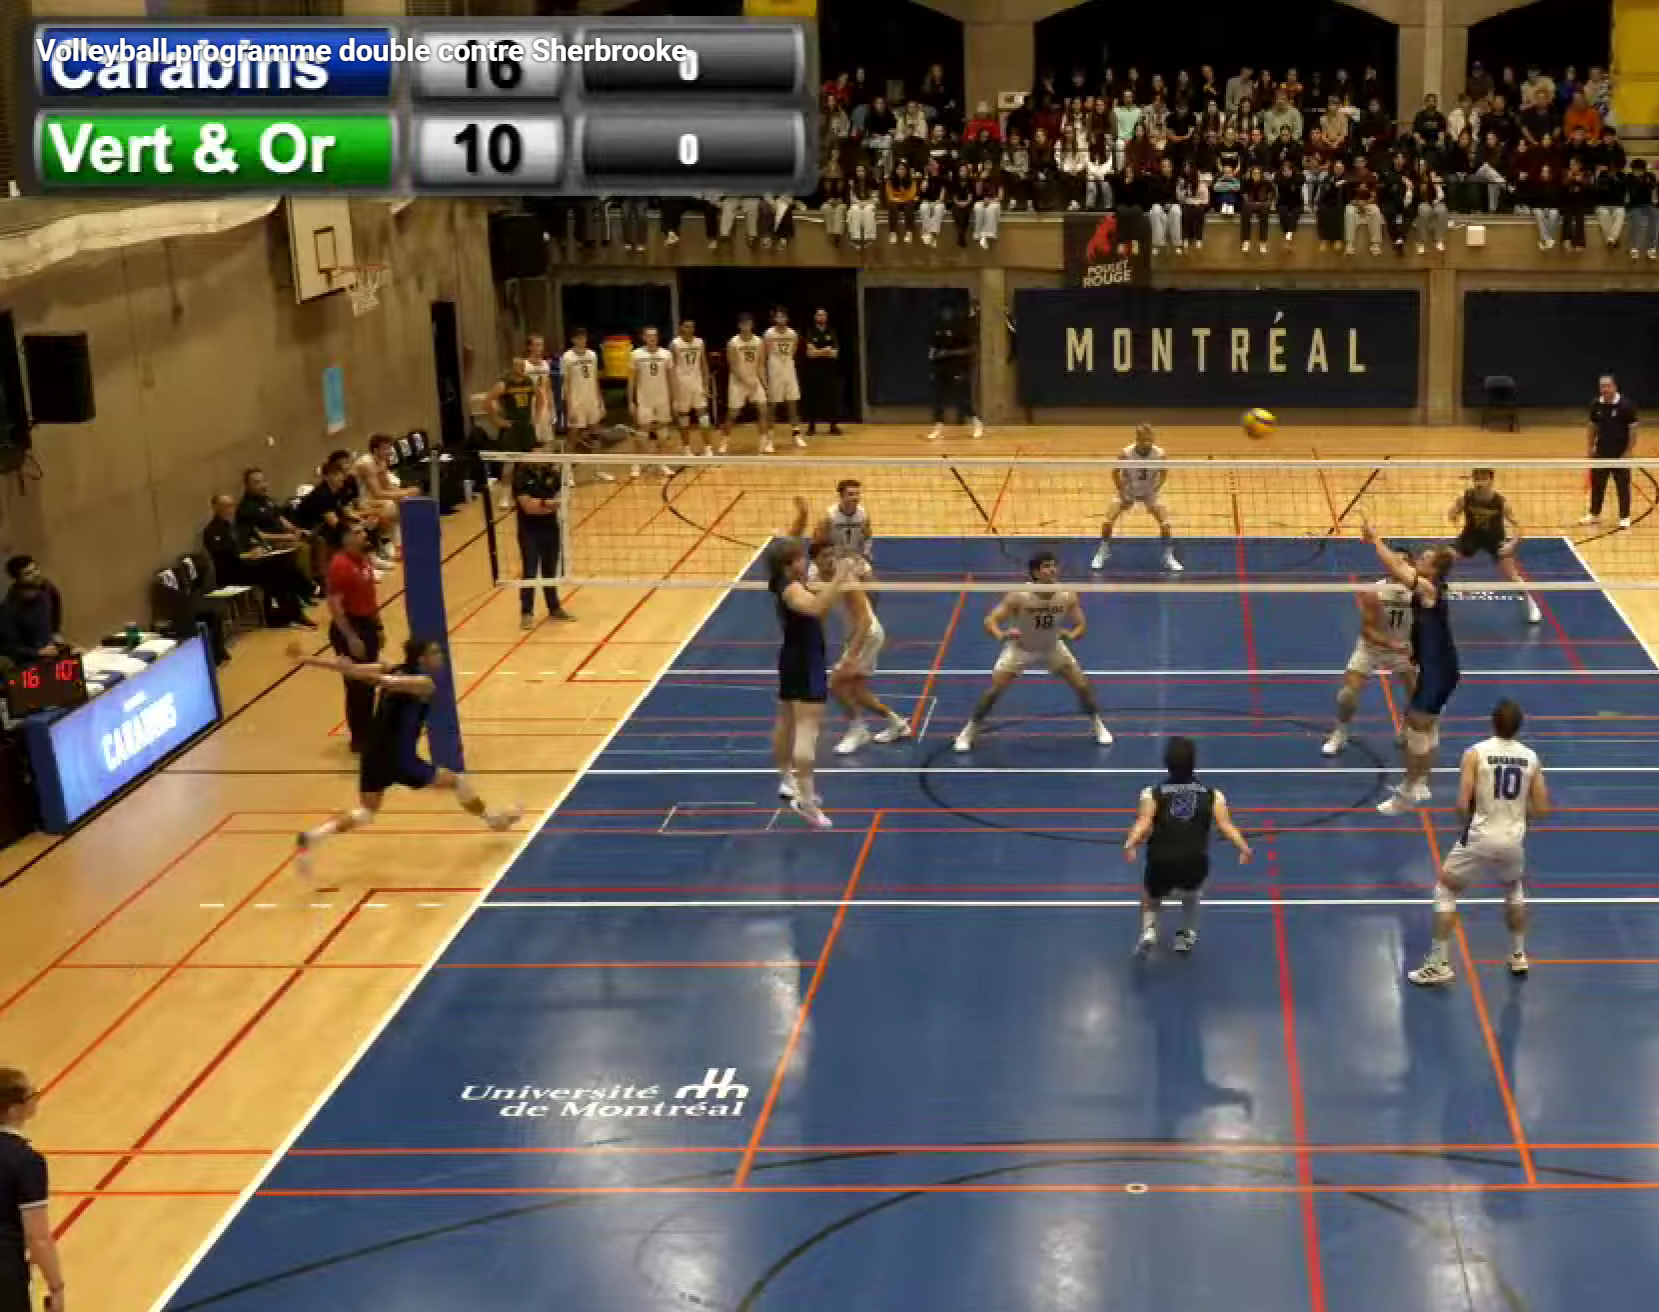Ball: (1238, 405, 1281, 443)
